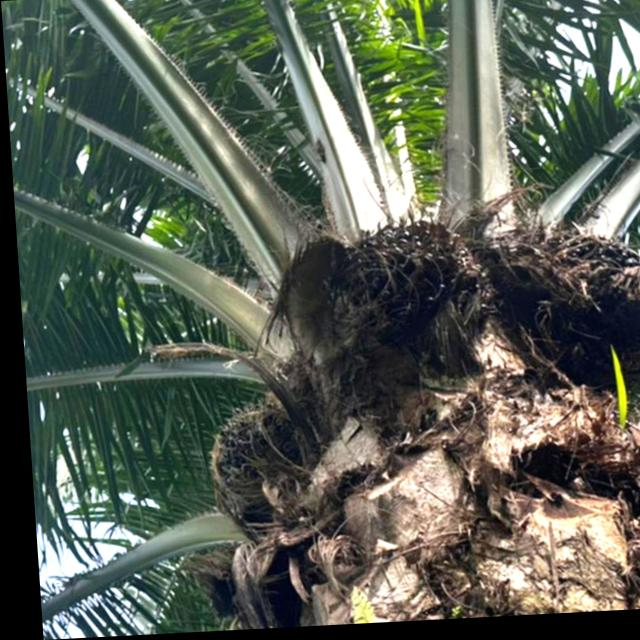ripe: (508, 220, 640, 404), (335, 204, 469, 342)
